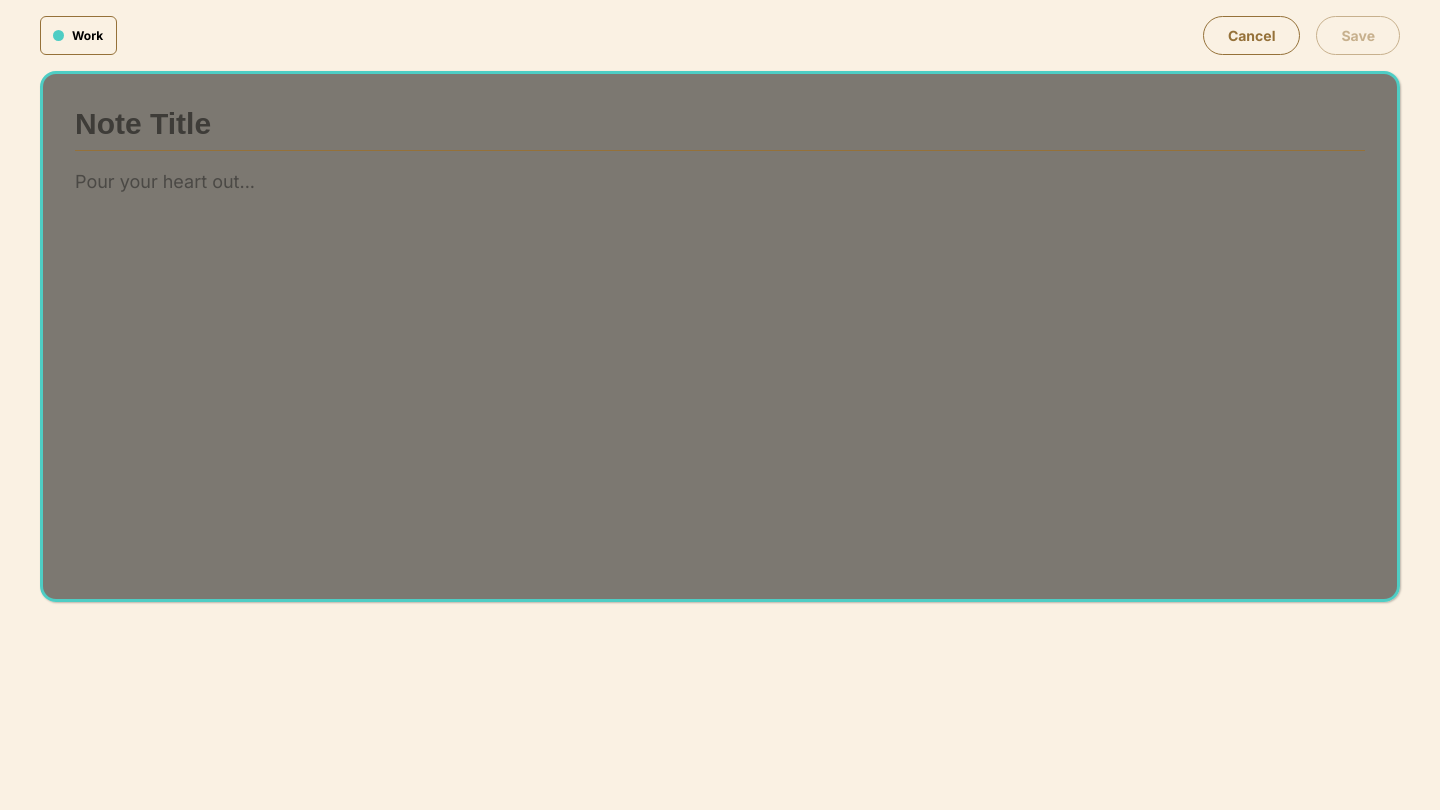
Test: NewNotePage › enables Save once a title is typed
Type "My Note" into the field with placeholder "Note Title" at [720, 128], box [75,106,1365,151]
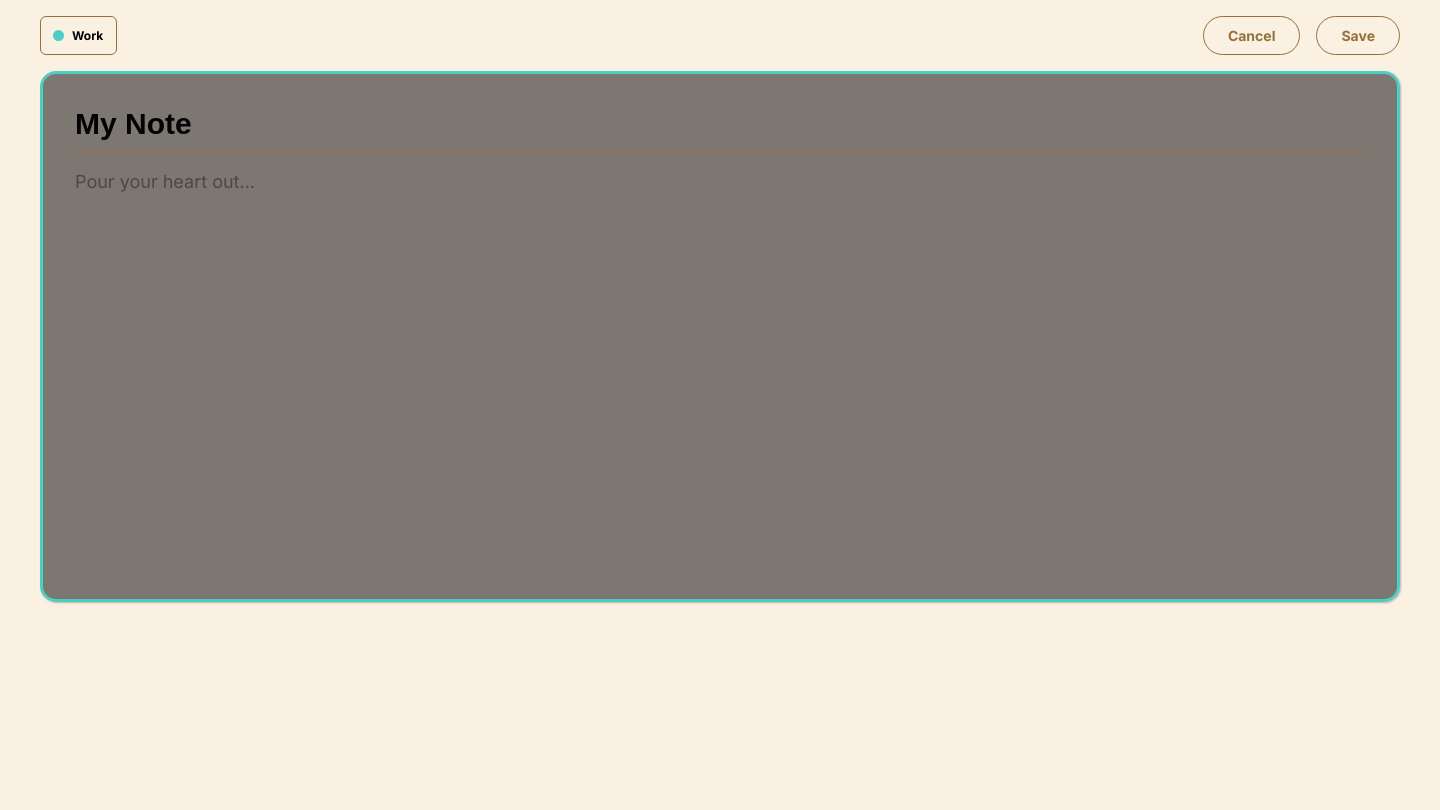
Check: the button "Save" is enabled, box [1316,16,1400,55]
